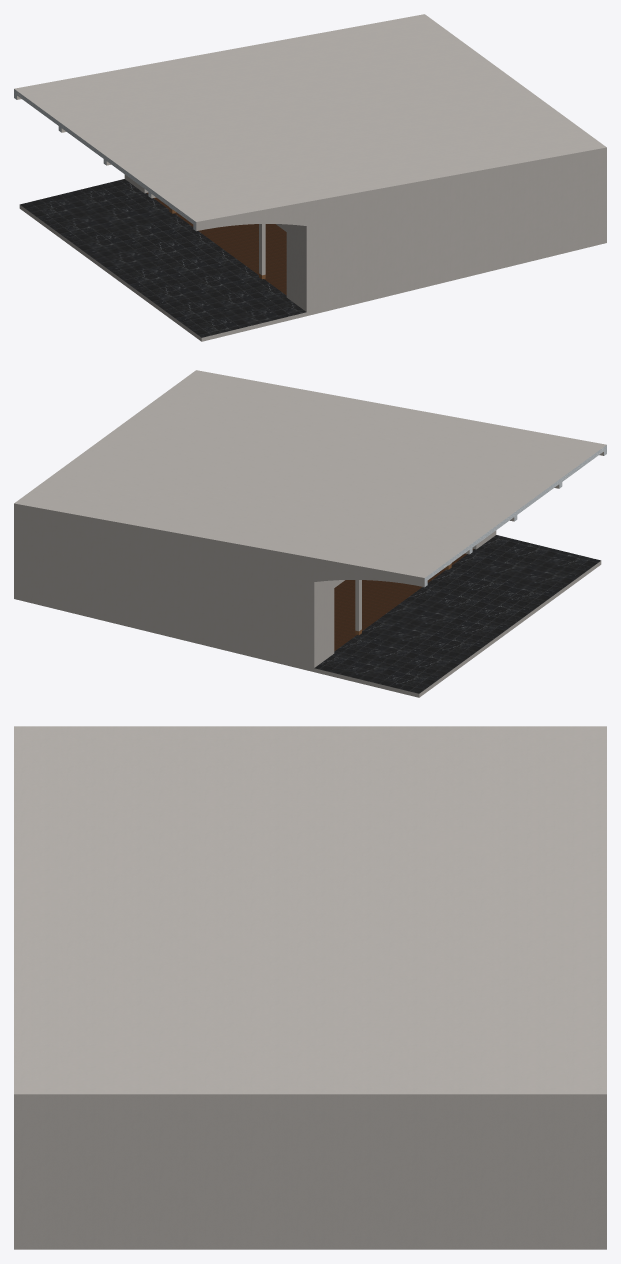
Rendered from mall.fbx.
3 renders of one model, top to bottom at view 1: azimuth 30°, elevation 25°; view 2: azimuth 150°, elevation 25°; view 3: azimuth 270°, elevation 25°, orthographic. The views are drawn at different scales.
Parts seen in each view (by area): view 1: Material2.002, Material2.004, Material2.007, Material2.012; view 2: Material2.002, Material2.004, Material2.007, Material2.012; view 3: Material2.002.
Part boxes in pixels (box(x1,y1,x2,y2)): Material2.002: box(14, 14, 606, 341); Material2.004: box(20, 179, 306, 337); Material2.007: box(147, 192, 286, 295); Material2.012: box(14, 89, 196, 230); Material2.002: box(14, 370, 606, 697); Material2.004: box(314, 535, 600, 693); Material2.007: box(334, 548, 473, 651); Material2.012: box(424, 445, 606, 586); Material2.002: box(14, 726, 606, 1249).
Bounding box in the file's own units: 64834 × 18267 × 49800.
Materials: 31 (18 with a texture image).
